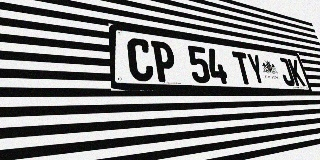4: (205, 48, 229, 84)
5: (187, 45, 212, 83)
C: (127, 37, 155, 81)
J: (277, 57, 296, 86)
K: (287, 58, 306, 86)
P: (151, 40, 177, 82)
T: (232, 51, 254, 85)
Y: (246, 53, 267, 85)
